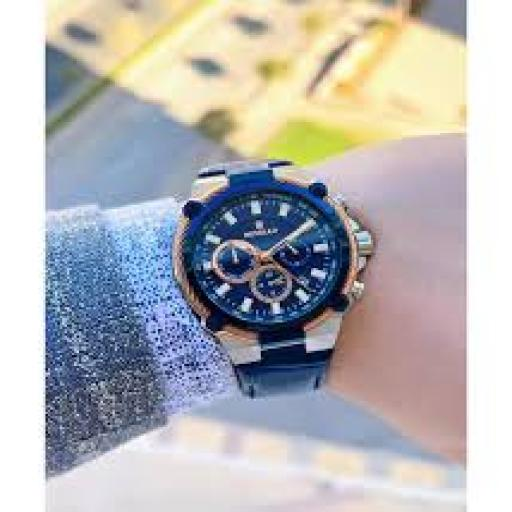KolSaati: (156, 124, 372, 402)
